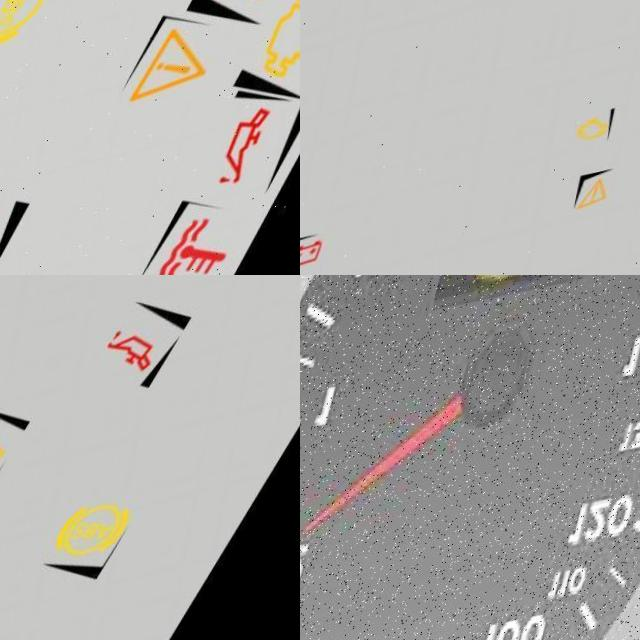Electronic Power Steering: (440, 275, 624, 321)
